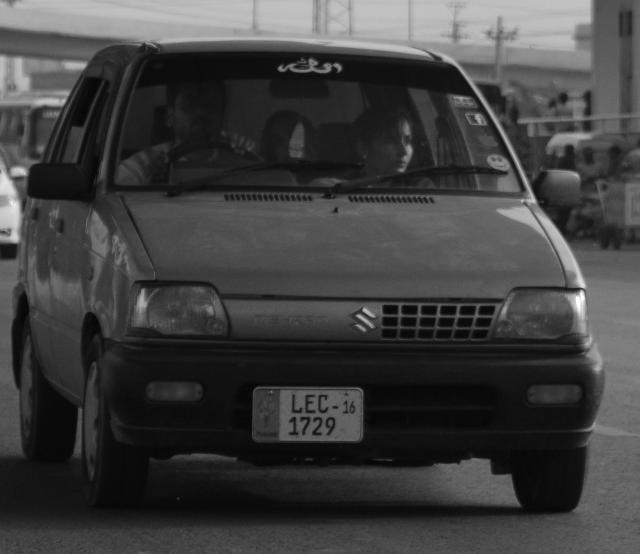Number: (286, 396, 358, 438)
